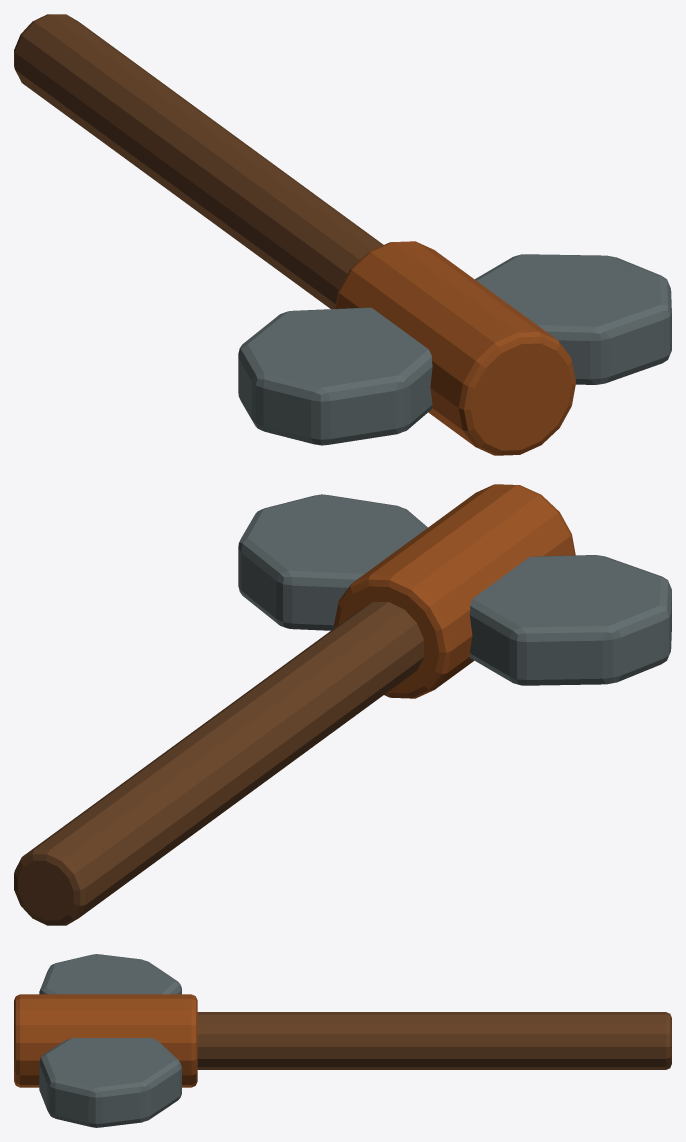
File: pelekys_axe_1h_LOD1.glb
3 renders of one model, top to bottom at view 1: azimuth 30°, elevation 25°; view 2: azimuth 150°, elevation 25°; view 3: azimuth 270°, elevation 25°, orthographic. The views are drawn at different scales.
Parts seen in each view (by area): view 1: LOD_PelekysDoubleHead, LOD_PelekysHaft, LOD_PelekysSocket; view 2: LOD_PelekysHaft, LOD_PelekysDoubleHead, LOD_PelekysSocket; view 3: LOD_PelekysHaft, LOD_PelekysDoubleHead, LOD_PelekysSocket.
Boxes of the visible parts, x1=… form: LOD_PelekysDoubleHead: x1=238, y1=254, x2=671, y2=445; LOD_PelekysHaft: x1=14, y1=14, x2=383, y2=308; LOD_PelekysSocket: x1=335, y1=241, x2=575, y2=455; LOD_PelekysHaft: x1=14, y1=602, x2=423, y2=925; LOD_PelekysDoubleHead: x1=238, y1=494, x2=671, y2=685; LOD_PelekysSocket: x1=334, y1=484, x2=575, y2=698; LOD_PelekysHaft: x1=197, y1=1012, x2=671, y2=1069; LOD_PelekysDoubleHead: x1=39, y1=954, x2=181, y2=1127; LOD_PelekysSocket: x1=14, y1=994, x2=197, y2=1087.
Bounding box in the file's own units: 0.4319 × 0.122 × 0.86.
